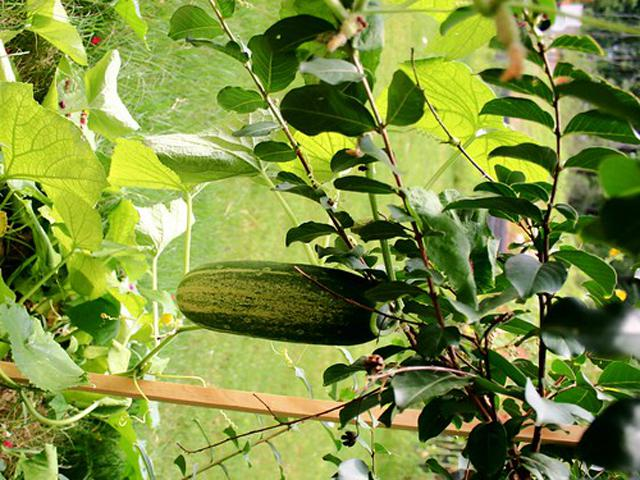cucumber: (174, 262, 401, 347)
